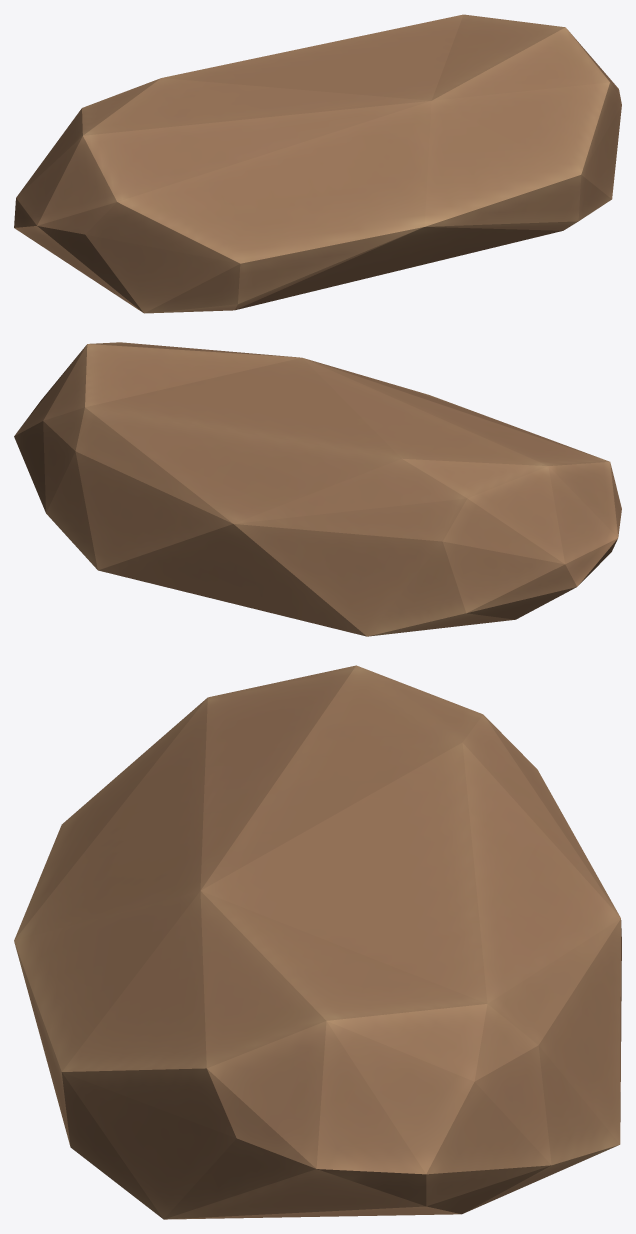
File: Rock_28.fbx
3 renders of one model, top to bottom at view 1: azimuth 30°, elevation 25°; view 2: azimuth 150°, elevation 25°; view 3: azimuth 270°, elevation 25°, orthographic. The views are drawn at different scales.
Parts seen in each view (by area): view 1: Rock_28; view 2: Rock_28; view 3: Rock_28.
Part boxes in pixels (x1,y1,x2,y2): Rock_28: [14, 14, 621, 313]; Rock_28: [14, 342, 621, 636]; Rock_28: [14, 665, 621, 1219].
Size of the model in its own units: 45.44 by 26.71 by 10.22.
1 material, 1 textured.
